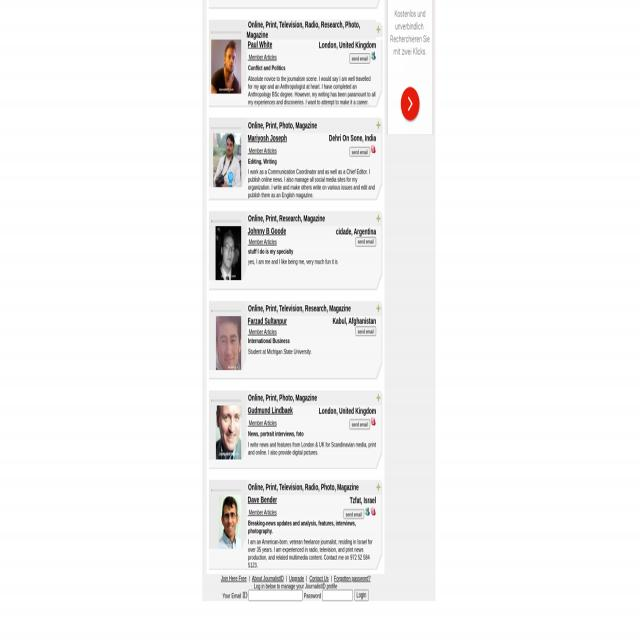button: (211, 40, 241, 96), (213, 132, 241, 189), (214, 225, 242, 282), (215, 316, 242, 370), (216, 406, 241, 460), (219, 493, 241, 550), (400, 87, 420, 122), (350, 146, 370, 156), (356, 236, 376, 246), (356, 326, 376, 336), (350, 420, 370, 430), (344, 509, 364, 519), (350, 54, 370, 64), (354, 589, 369, 601), (376, 390, 382, 406), (376, 480, 382, 495)
field: (248, 589, 302, 601), (322, 589, 353, 601)
